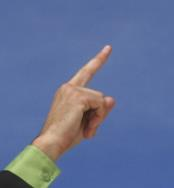up: (38, 43, 123, 142)
